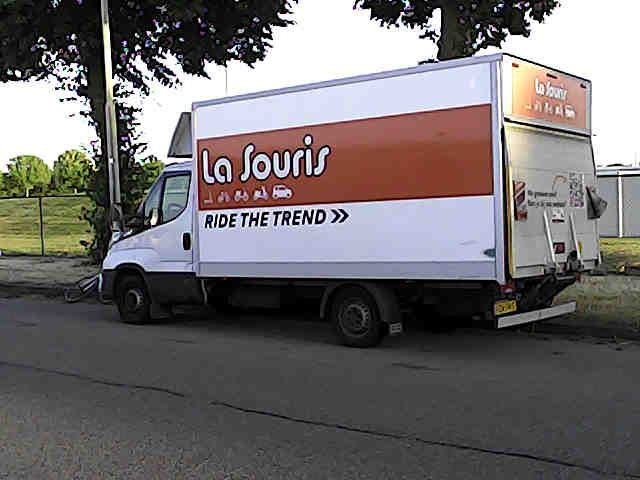whitevan: (98, 51, 602, 336)
